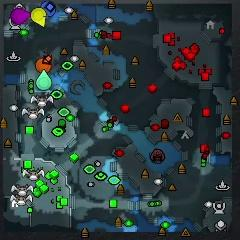p1: (41, 1, 56, 19)
p2: (35, 69, 53, 91)
p3: (11, 8, 31, 26)
p4: (30, 7, 47, 29)
p5: (36, 56, 55, 73)
